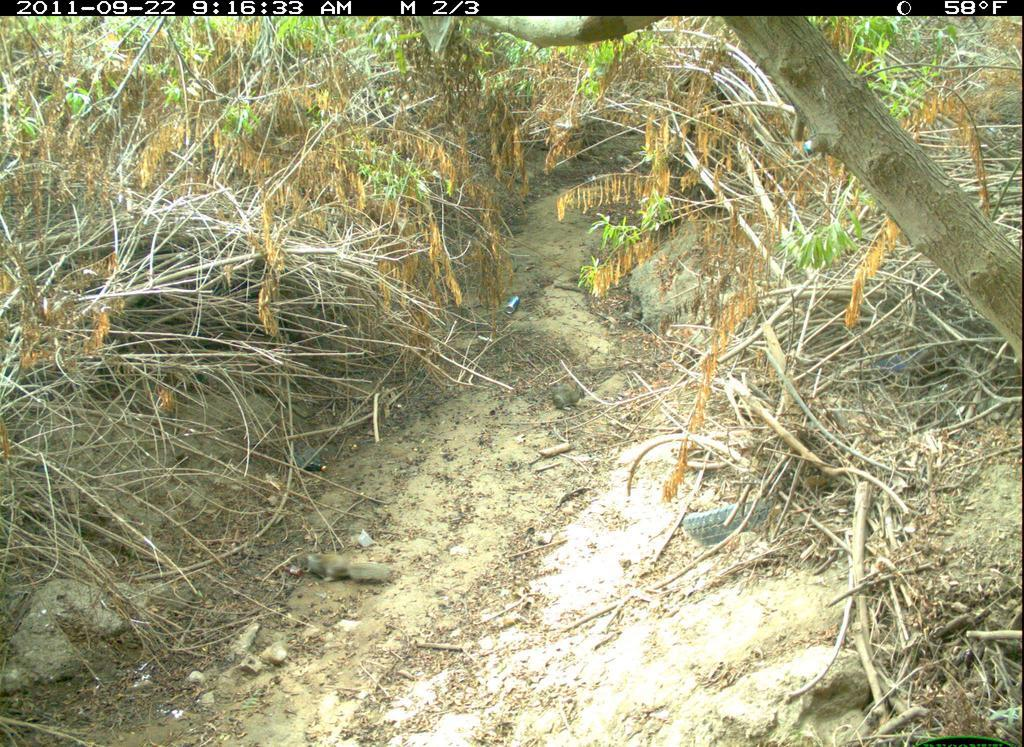squirrel: (285, 544, 402, 598)
